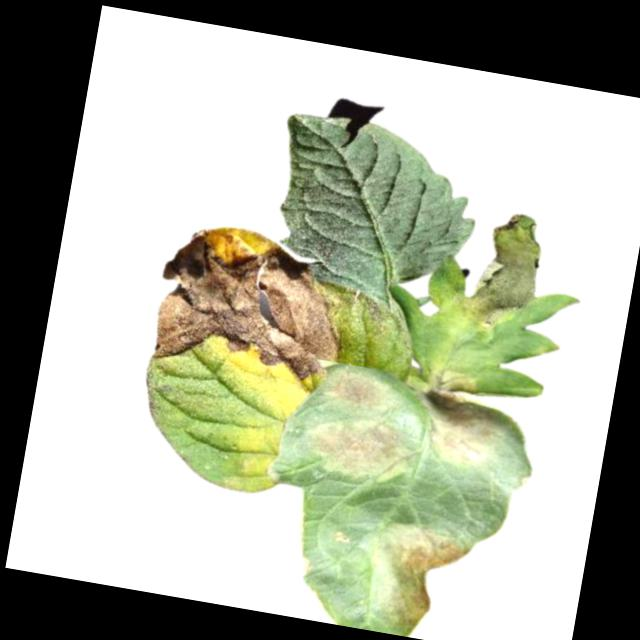Late_blight: (148, 215, 359, 389), (361, 515, 476, 640), (457, 205, 552, 340), (298, 404, 421, 490), (404, 385, 516, 474), (318, 363, 405, 420), (427, 364, 481, 396)
healthy: (259, 107, 490, 315)
